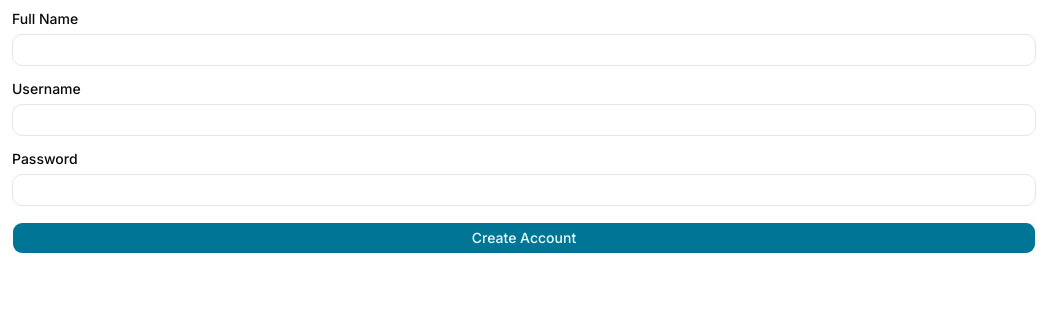
Test: Feature: a refused self-signup keeps what was typed › keeps name, username and password, password included, after a refused submit
Step 1. Type "Alice Smith" into the field labelled "Full Name" → (524, 50), box [12, 34, 1036, 66]
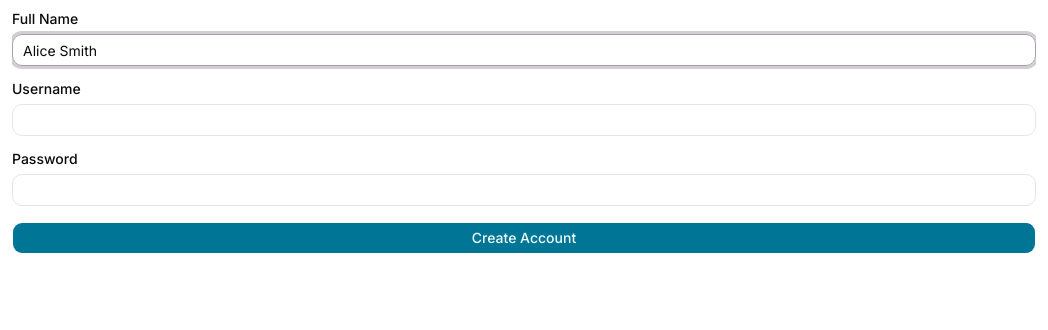
Step 2. Type "alice" into the field labelled "Username" → (524, 120), box [12, 104, 1036, 136]
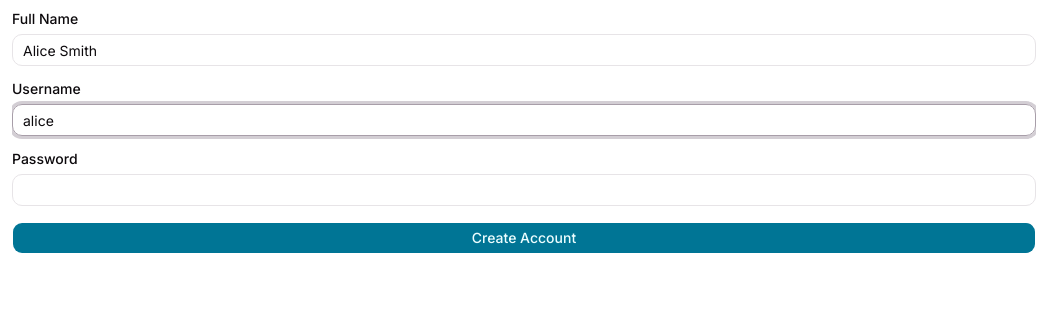
Step 3. Type "hunter2pass" into the password field labelled "Password" → (524, 190), box [12, 174, 1036, 206]
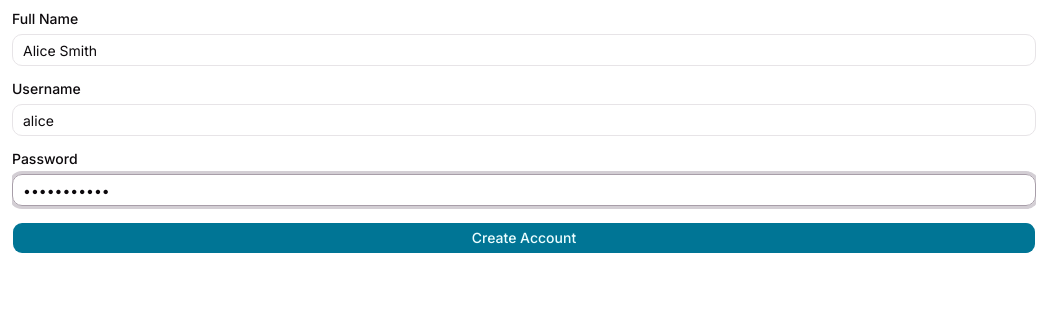
Step 4. Click the button "Create Account" → (524, 238), box [12, 222, 1036, 254]
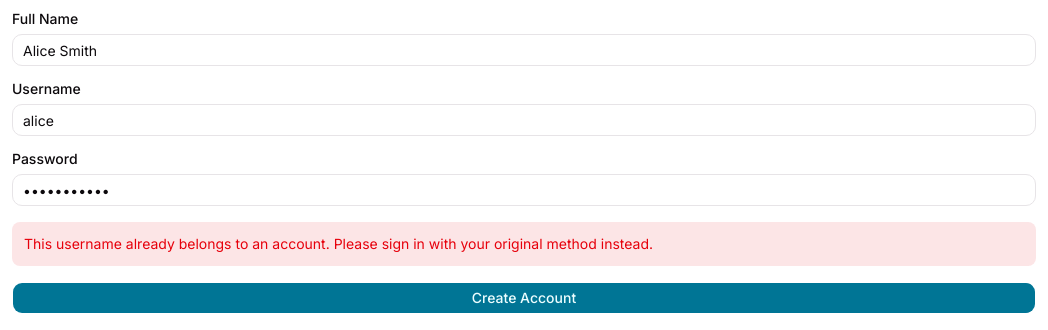
expect the message is shown: met, box [12, 222, 1036, 266]
